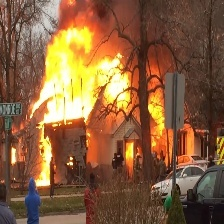fire: (31, 23, 136, 131), (36, 121, 53, 187), (149, 91, 165, 147), (9, 144, 18, 164), (65, 154, 74, 167)
